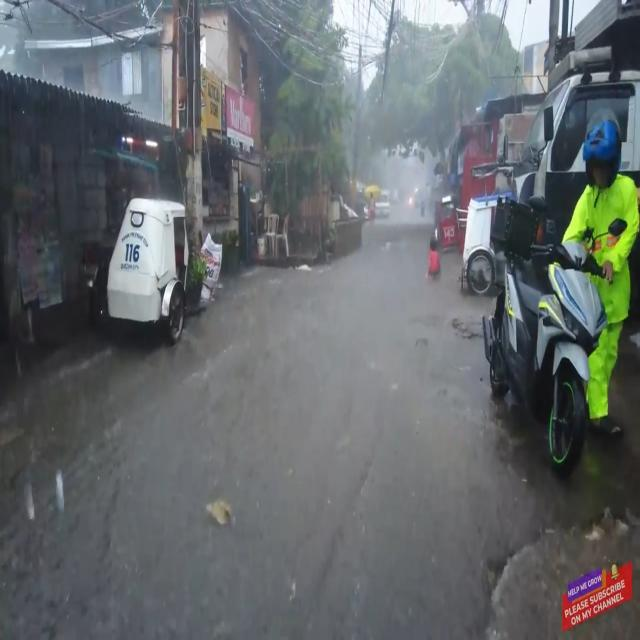half: (582, 107, 622, 190)
